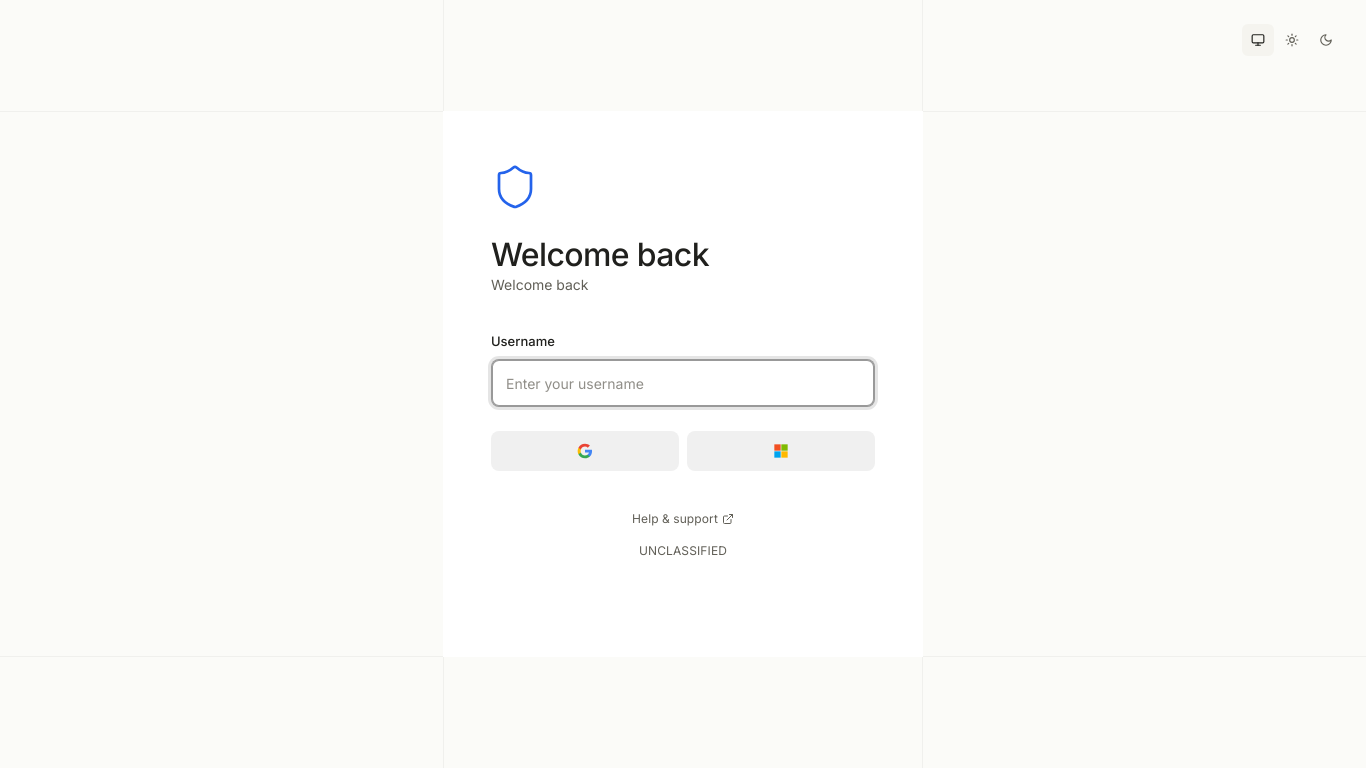
Scenario: Login — four-mode render › renders identity first, then reveals the password step without losing the surrounding shell
This screenshot has width=1366, height=768.
Expected: the field labelled "Password" is not shown
Expected: the button "Continue" is not shown
Click the button named "Use dark theme".
click(1326, 40)  # box [1310,24,1342,56]
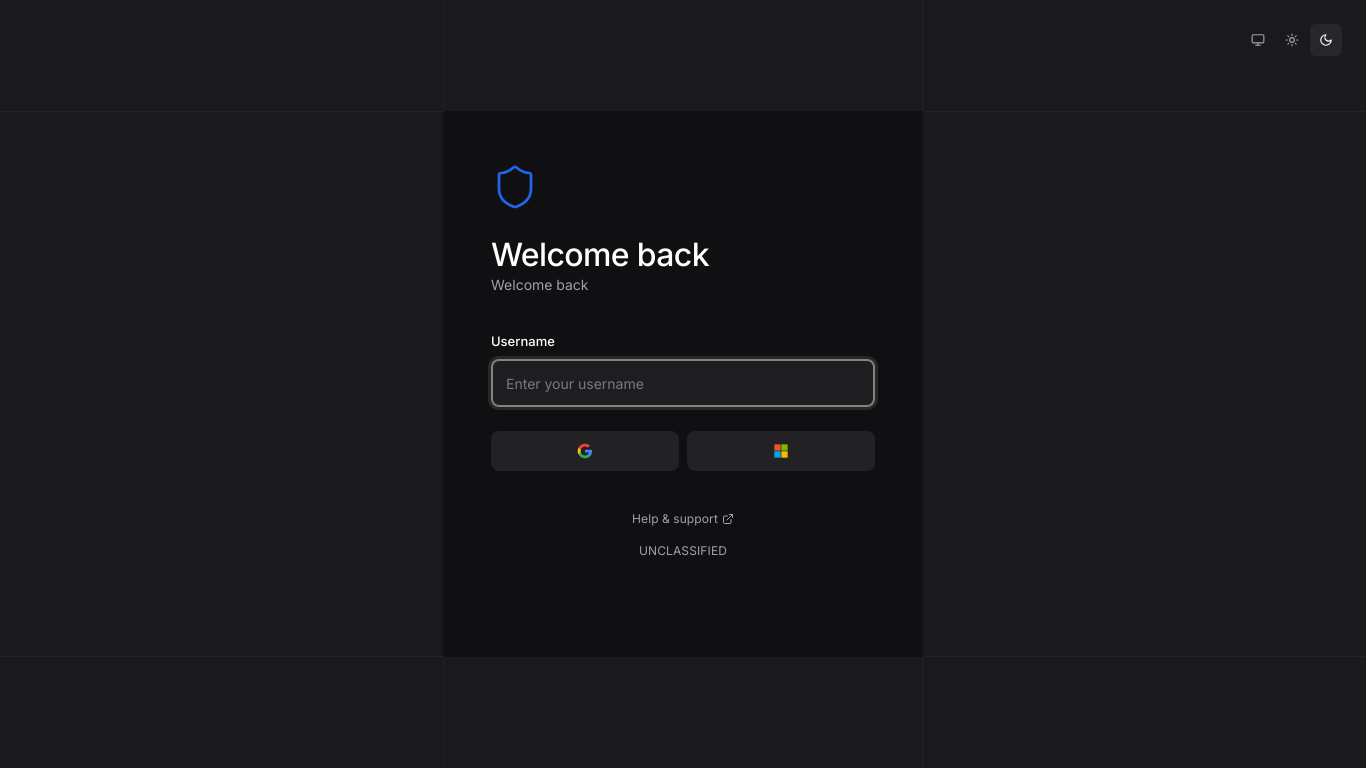
Expected: the button named "Use dark theme" is pressed, [1310,24,1342,56]
Expected: the element that starts with "Welcome back" has attribute data-login-theme-palette-settling="true"
// Mistral-style staged disclosure: Continue appears only after identity input.
Type "alice" into the field labelled "Username".
click(683, 383); type("alice")  # box [491,359,875,407]
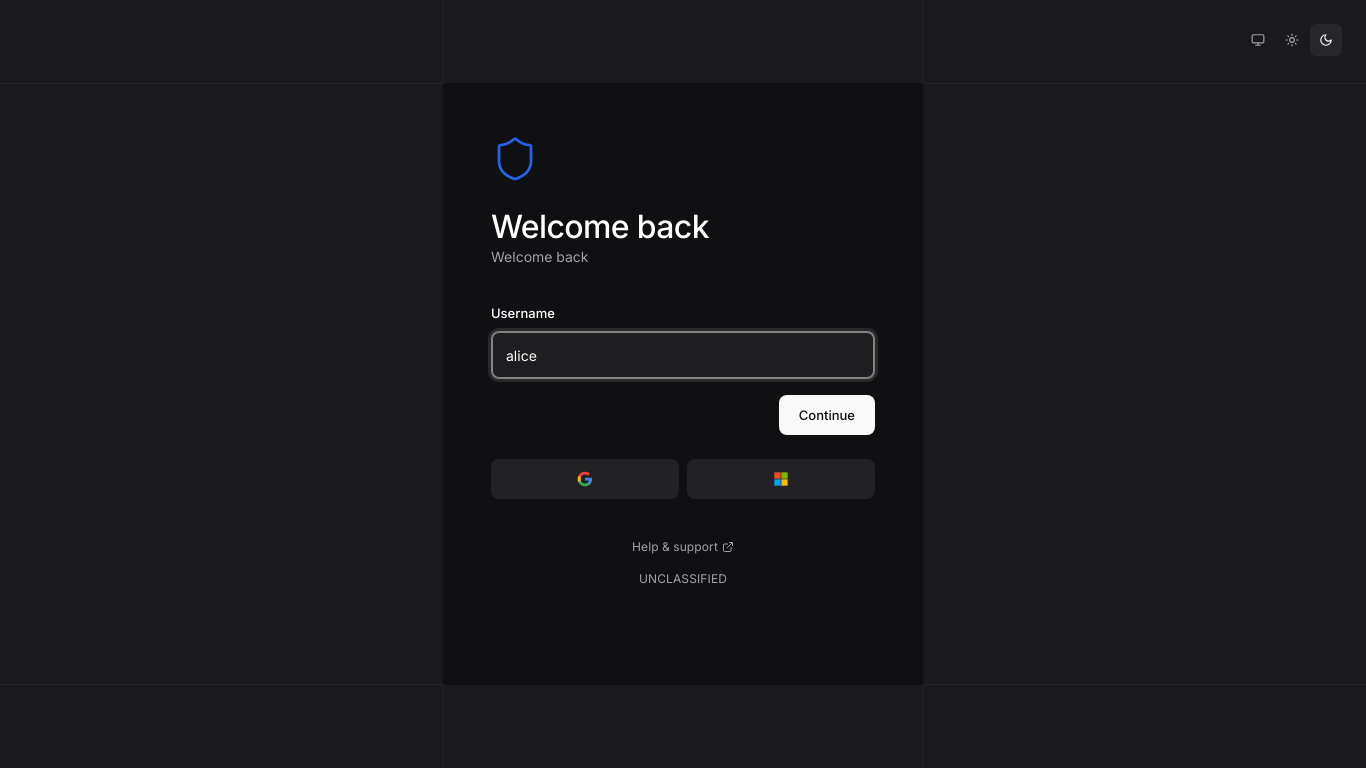
Click the button "Continue".
click(827, 415)  # box [779,395,875,435]
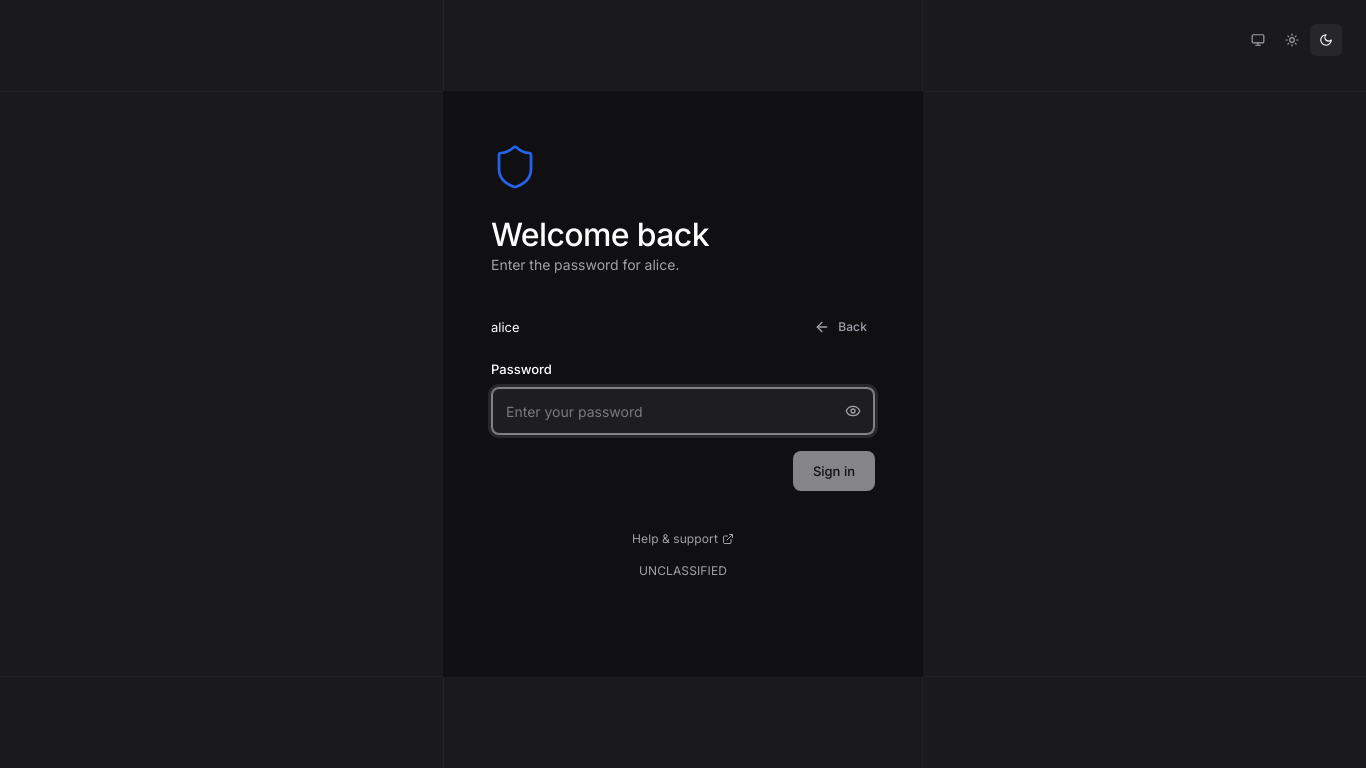
Expected: the button "Back" is shown, [806,311,875,343]
Expected: the button "Sign in" is disabled, [793,451,875,491]
Expected: the button "Continue" is gone
